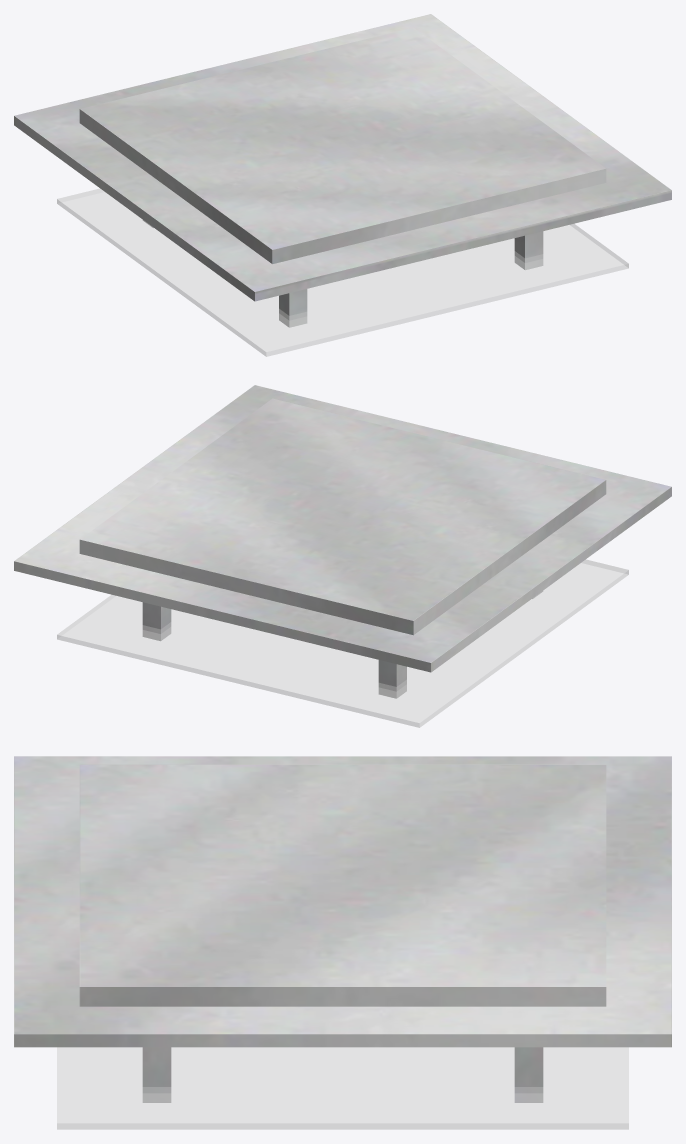
Rendered from co-ceiling-lamp-globo-feria.glb.
3 renders of one model, top to bottom at view 1: azimuth 30°, elevation 25°; view 2: azimuth 150°, elevation 25°; view 3: azimuth 270°, elevation 25°, orthographic. The views are drawn at different scales.
Visible parts, largest first — view 1: PolyMesh_1_2_2, PolyMesh_2_1_1; view 2: PolyMesh_1_2_2, PolyMesh_2_1_1; view 3: PolyMesh_1_2_2, PolyMesh_2_1_1.
Boxes of the visible parts, x1,y1,x2,y2 form: PolyMesh_1_2_2: [14, 14, 671, 327]; PolyMesh_2_1_1: [57, 188, 628, 356]; PolyMesh_1_2_2: [14, 385, 671, 698]; PolyMesh_2_1_1: [57, 559, 628, 727]; PolyMesh_1_2_2: [14, 756, 671, 1102]; PolyMesh_2_1_1: [57, 1047, 628, 1129].
Size of the model in its own units: 0.46 by 0.11 by 0.46.
Materials: 2 (1 with a texture image).
